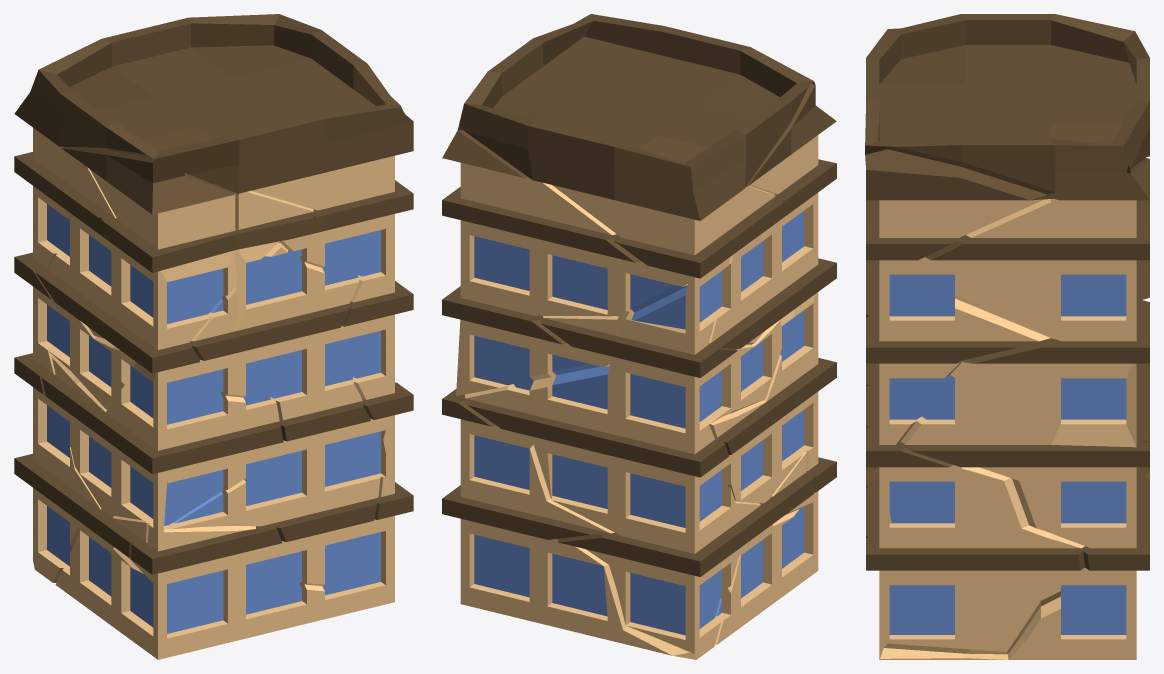
The model's file is NewestBuilding4.fbx.
3 renders of one model, left to right at view 1: azimuth 30°, elevation 25°; view 2: azimuth 150°, elevation 25°; view 3: azimuth 270°, elevation 25°, orthographic. The views are drawn at different scales.
Visible parts, largest first — view 1: B2; view 2: B2; view 3: B2.
Part boxes in pixels (left/top/right/bottom): B2: left=14, top=14, right=413, bottom=659; B2: left=442, top=14, right=836, bottom=659; B2: left=865, top=14, right=1149, bottom=659.
Bounding box in the file's own units: 575 × 1066 × 528.
